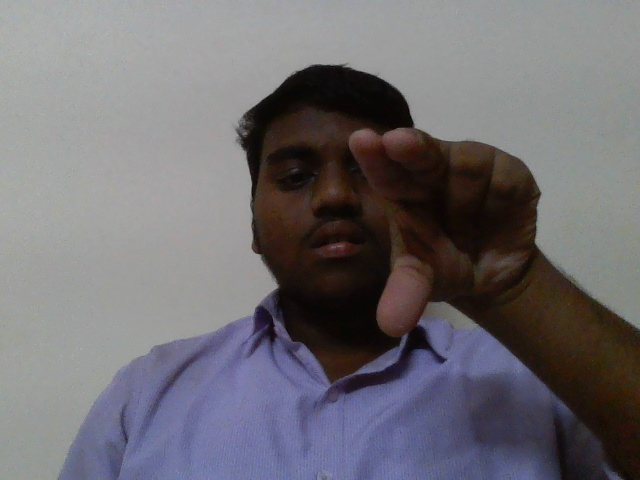No: (343, 126, 570, 349)
